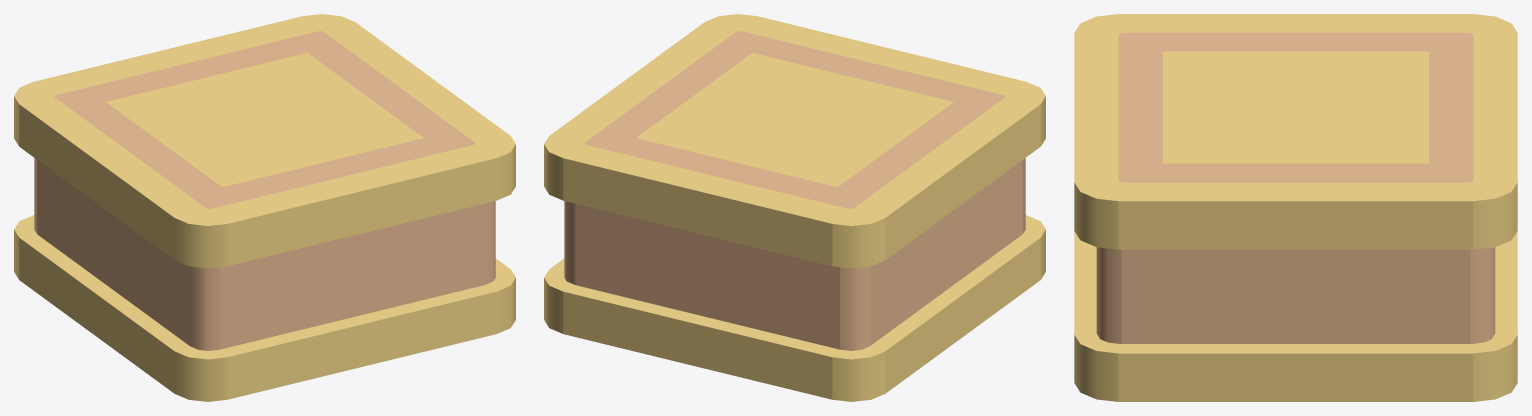
The picture shows the model from 3 angles, left to right: view 1: azimuth 30°, elevation 25°; view 2: azimuth 150°, elevation 25°; view 3: azimuth 270°, elevation 25°; orthographic projection. The views are drawn at different scales.
Visible parts, largest first — view 1: blockMovingLarge; view 2: blockMovingLarge; view 3: blockMovingLarge.
Boxes of the visible parts, x1,y1,x2,y2 form: blockMovingLarge: [14, 14, 515, 401]; blockMovingLarge: [544, 14, 1045, 401]; blockMovingLarge: [1074, 14, 1517, 401].
Size of the model in its own units: 1 by 0.5 by 1.
